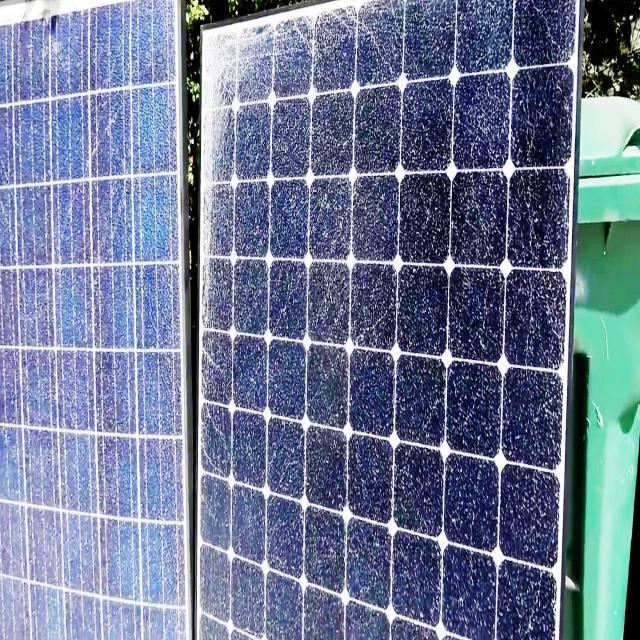faulty: (193, 2, 582, 640)
